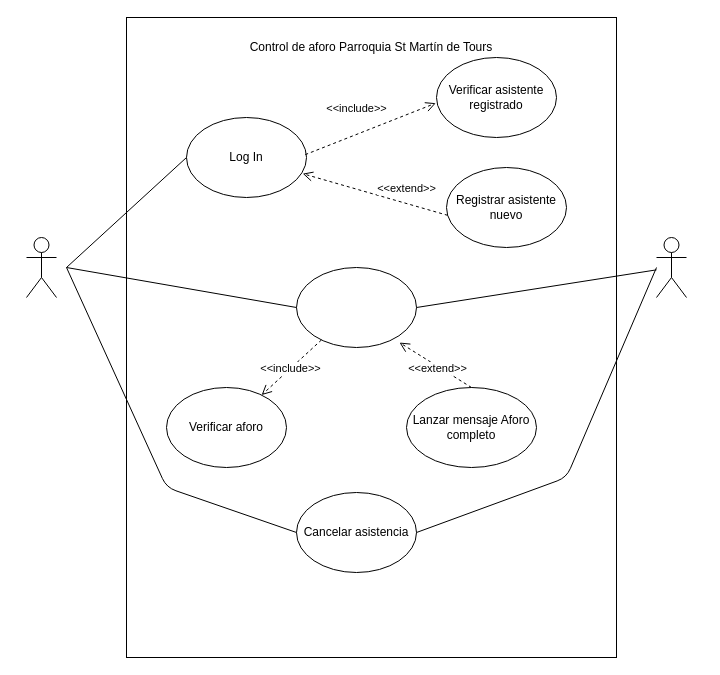
Image size: 720x675. Some labels were removed from this diagram. The shapes that lost their labels are listed below. From the top down, each one's centre as x and y in pixels, then its label:
[41,267]: Asistente
[671,267]: Registrador
[356,307]: Registrar asistencia
